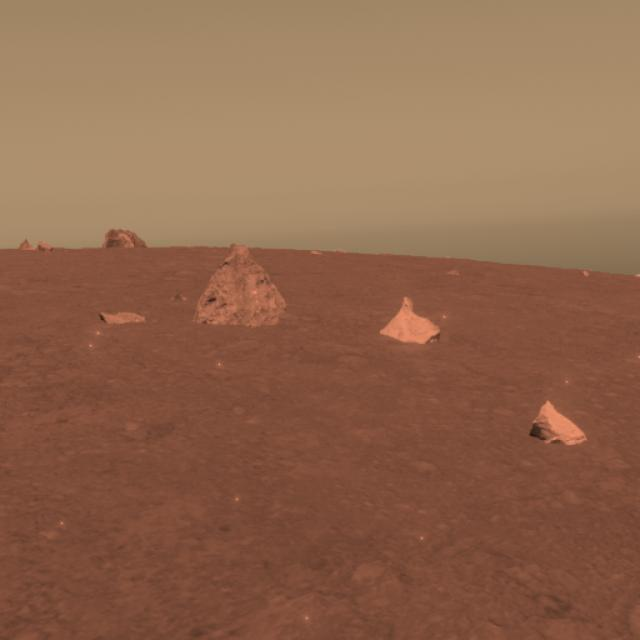rock: (195, 246, 290, 327), (526, 391, 590, 450), (377, 294, 439, 352)
